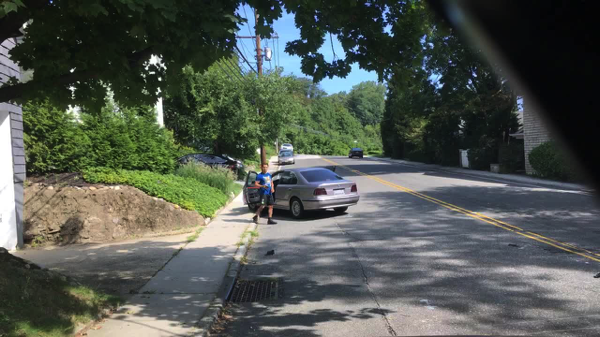car: (244, 165, 359, 219), (173, 154, 247, 179), (277, 152, 294, 165), (348, 149, 363, 159), (279, 143, 292, 152)
person: (249, 164, 278, 225)
